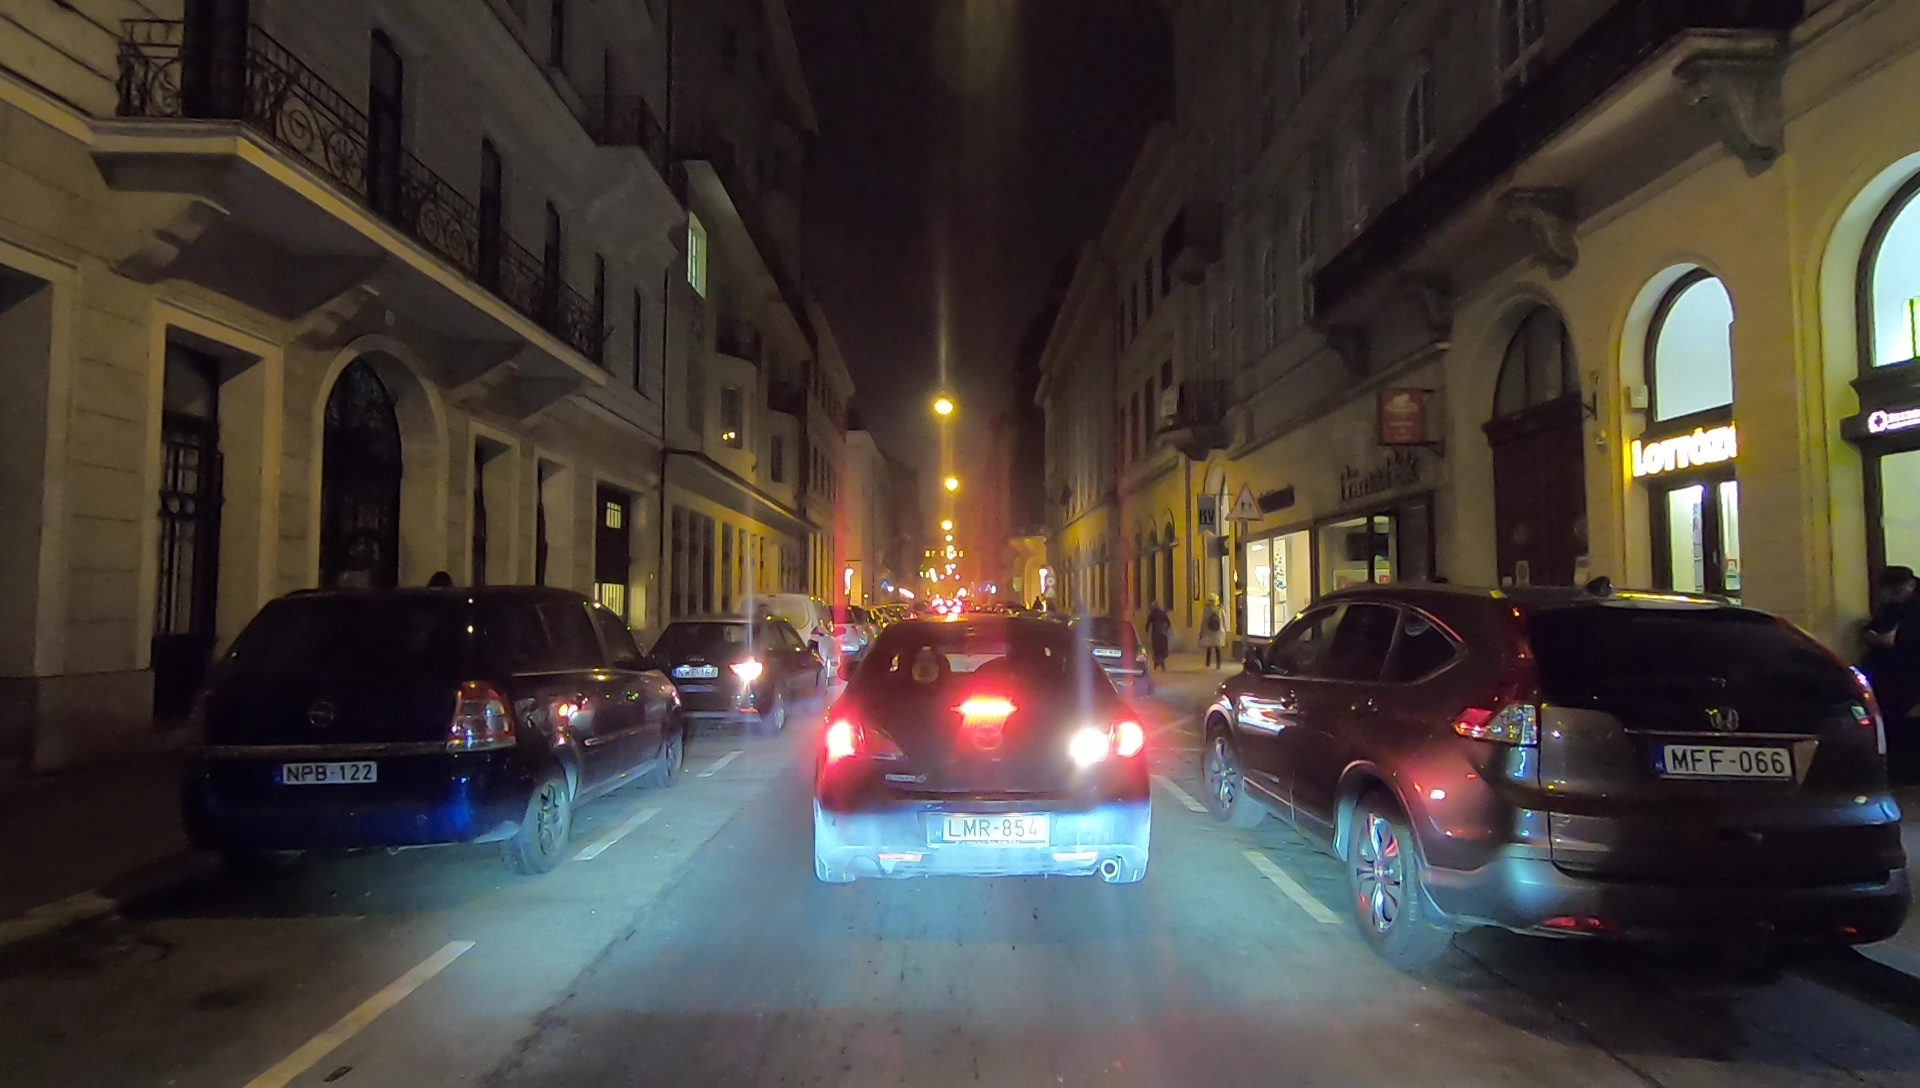person: (1862, 563, 1920, 755), (1139, 604, 1175, 676), (1197, 593, 1228, 674)
